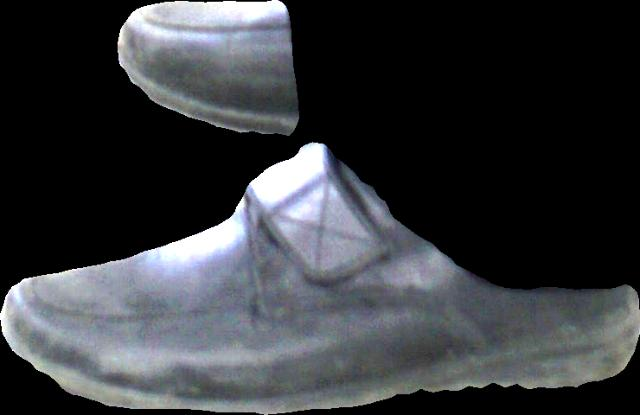blackshoes: (0, 142, 639, 414)
